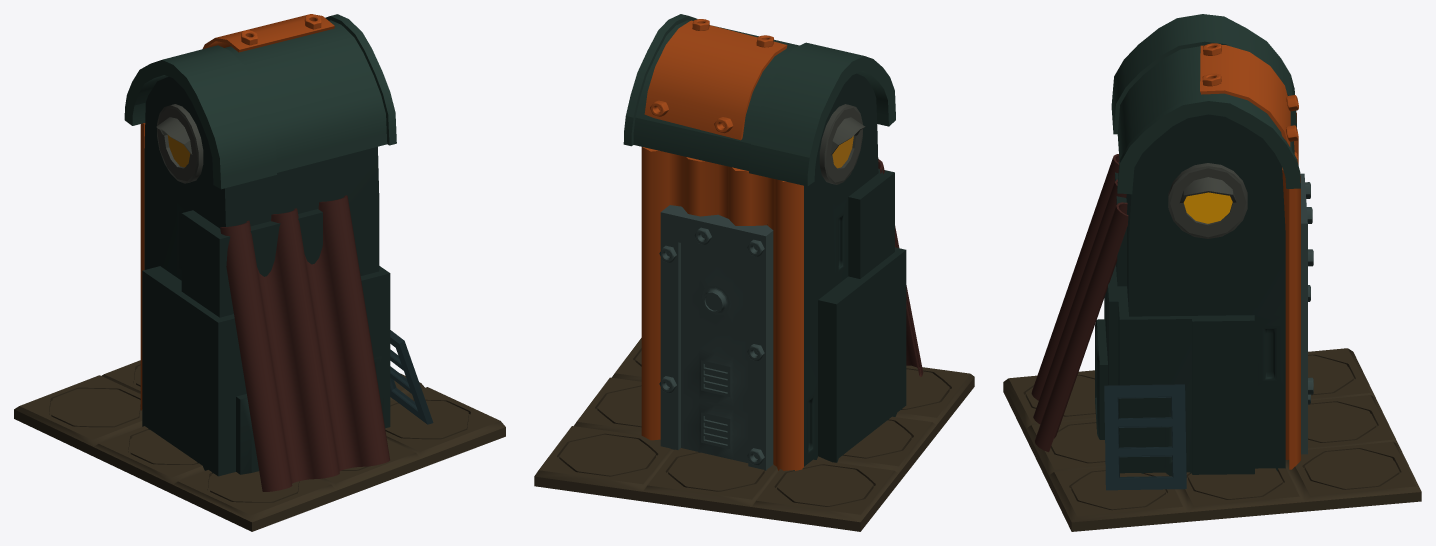
The model's file is SmallHouse01.fbx.
The picture shows the model from 3 angles, left to right: view 1: azimuth 30°, elevation 25°; view 2: azimuth 150°, elevation 25°; view 3: azimuth 270°, elevation 25°; orthographic projection.
Parts seen in each view (by area): view 1: Box001, Tube001, Line001, Box027, Cylinder017, Box031, Box030, Box028; view 2: Box027, Box001, Box029, Box028, Line001, Box031, Cylinder017, Tube001; view 3: Box001, Box027, Line001, Tube001, Box030, Box031, Box028, Cylinder015, Box029, Cylinder016.
Boxes of the visible parts, <box> form: Box001: <box>142,76,390,476</box>; Tube001: <box>220,195,389,491</box>; Line001: <box>124,14,396,189</box>; Box027: <box>14,360,505,531</box>; Cylinder017: <box>156,104,203,183</box>; Box031: <box>202,14,334,52</box>; Box030: <box>390,330,433,424</box>; Box028: <box>140,123,145,410</box>; Box027: <box>534,338,974,531</box>; Box001: <box>767,73,906,466</box>; Box029: <box>659,205,773,470</box>; Box028: <box>641,147,803,470</box>; Line001: <box>623,14,895,186</box>; Box031: <box>644,19,787,140</box>; Cylinder017: <box>819,104,865,184</box>; Tube001: <box>878,159,923,376</box>; Box001: <box>1095,114,1285,475</box>; Box027: <box>1003,348,1421,531</box>; Line001: <box>1111,14,1300,194</box>; Tube001: <box>1031,154,1128,452</box>; Box030: <box>1104,384,1186,490</box>; Box031: <box>1200,43,1298,146</box>; Box028: <box>1282,112,1300,469</box>; Cylinder015: <box>1168,163,1247,238</box>; Box029: <box>1300,173,1313,454</box>; Cylinder016: <box>1183,192,1232,223</box>.
Bounding box in the file's own units: 80.2 × 89.93 × 83.04.
